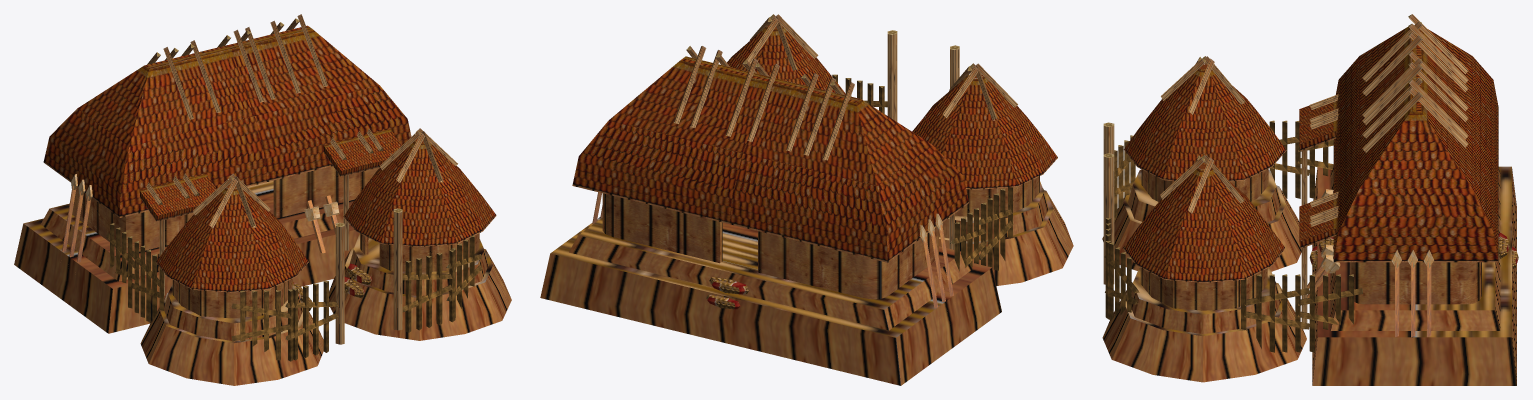
Rendered from barracks.dae.
3 renders of one model, left to right at view 1: azimuth 30°, elevation 25°; view 2: azimuth 150°, elevation 25°; view 3: azimuth 270°, elevation 25°, orthographic. The views are drawn at different scales.
Visible parts, largest first — view 1: barracks; view 2: barracks; view 3: barracks.
Boxes of the visible parts, <box> form: barracks: <box>14,14,511,385</box>; barracks: <box>540,14,1073,385</box>; barracks: <box>1102,14,1518,385</box>.
Bounding box in the file's own units: 27.18 × 25.65 × 16.59.
